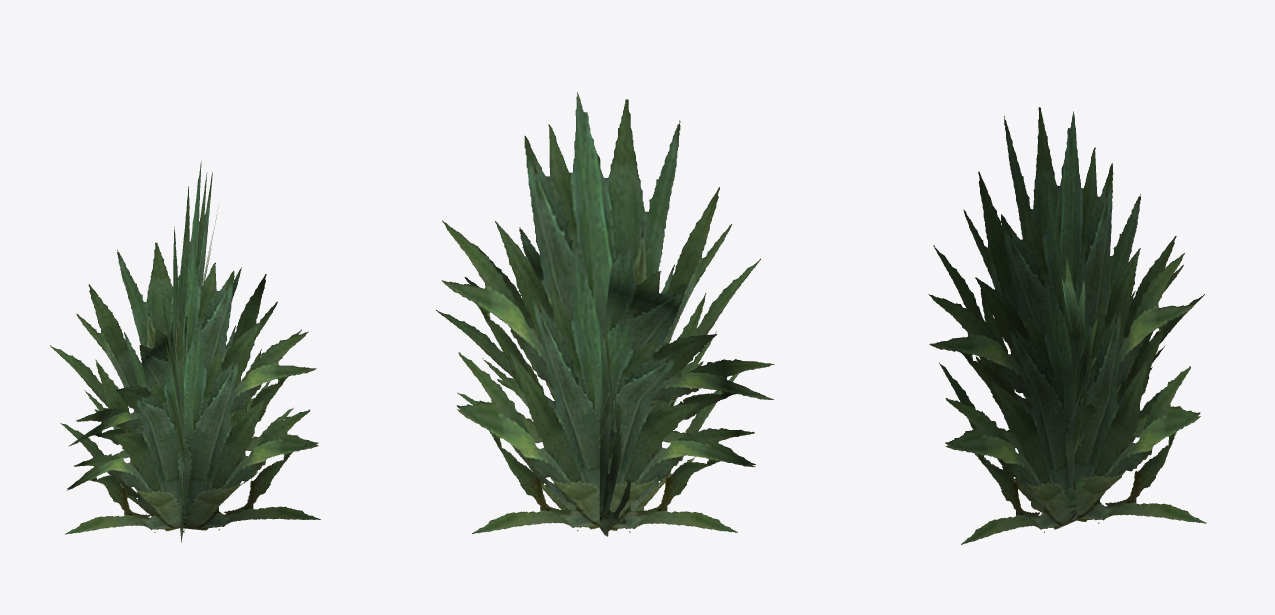
The model's file is obj__agava1.obj.
3 renders of one model, left to right at view 1: azimuth 30°, elevation 25°; view 2: azimuth 150°, elevation 25°; view 3: azimuth 270°, elevation 25°, orthographic. The views are drawn at different scales.
Parts seen in each view (by area): view 1: agava1.tga; view 2: agava1.tga; view 3: agava1.tga.
Boxes of the visible parts, box(x1,y1,x2,y2) form: agava1.tga: box(50, 161, 320, 542); agava1.tga: box(436, 92, 774, 536); agava1.tga: box(928, 107, 1206, 544).
Size of the model in its own units: 53.82 by 66.87 by 46.44.
1 material, 1 textured.
